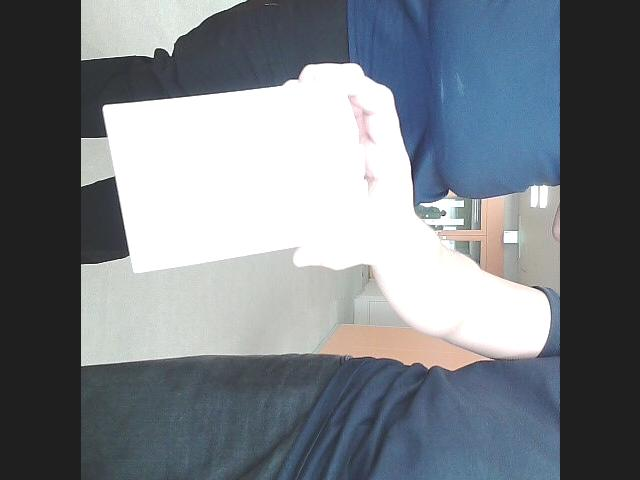Blind_box: (85, 69, 369, 285)
